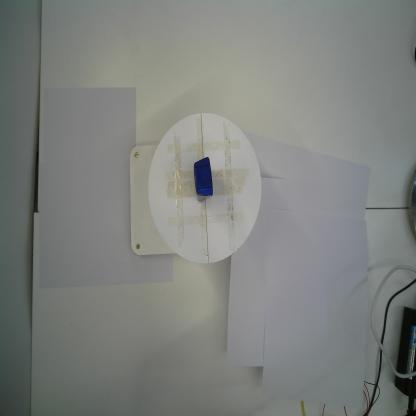Personal Hygiene: (193, 156, 213, 197)
